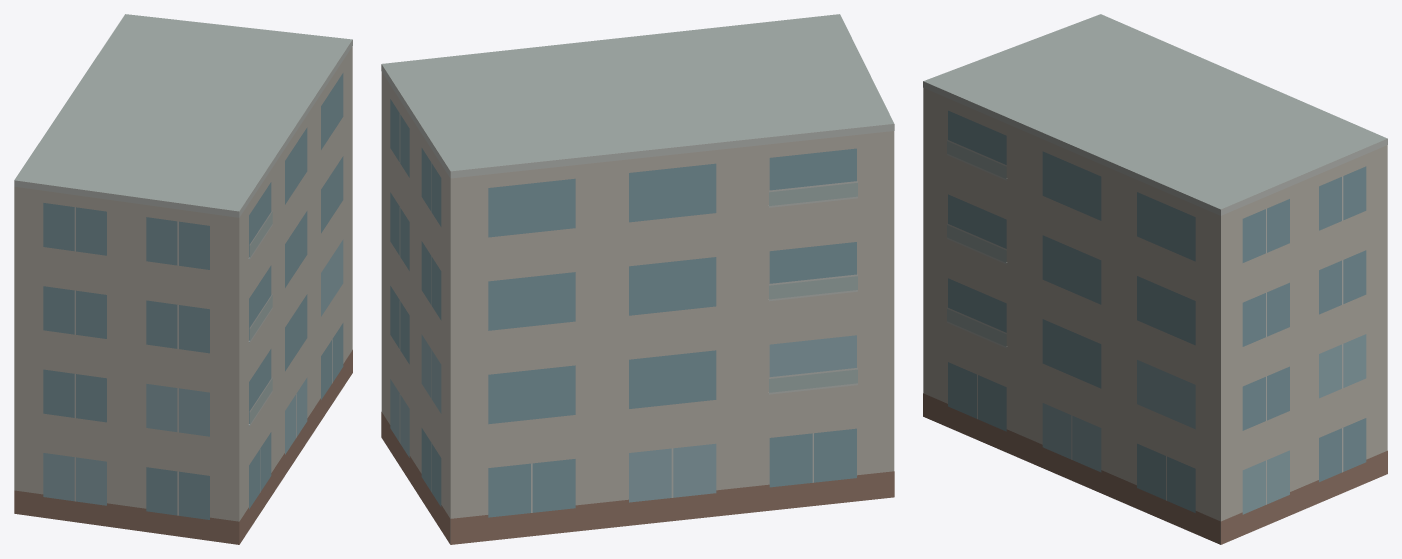
File: survey-upis-32740081.glb
3 views of the same model, side by side, from view 1: azimuth 30°, elevation 25°; view 2: azimuth 150°, elevation 25°; view 3: azimuth 270°, elevation 25° (orthographic). The views are drawn at different scales.
Parts seen in each view (by area): view 1: survey-upis-32740081.tmp; view 2: survey-upis-32740081.tmp; view 3: survey-upis-32740081.tmp.
Boxes of the visible parts, x1=… form: survey-upis-32740081.tmp: x1=14, y1=14, x2=352, y2=544; survey-upis-32740081.tmp: x1=381, y1=14, x2=894, y2=544; survey-upis-32740081.tmp: x1=923, y1=14, x2=1387, y2=544.
Bounding box in the file's own units: 16.01 × 12.8 × 16.07.
